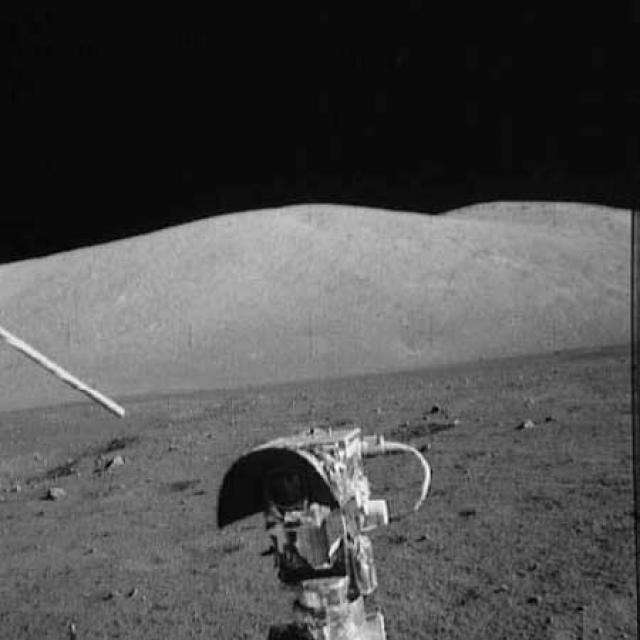artifact: (212, 422, 438, 638), (2, 329, 128, 426)
crater: (28, 478, 203, 514), (1, 450, 73, 484), (68, 434, 140, 457), (386, 419, 454, 441)
